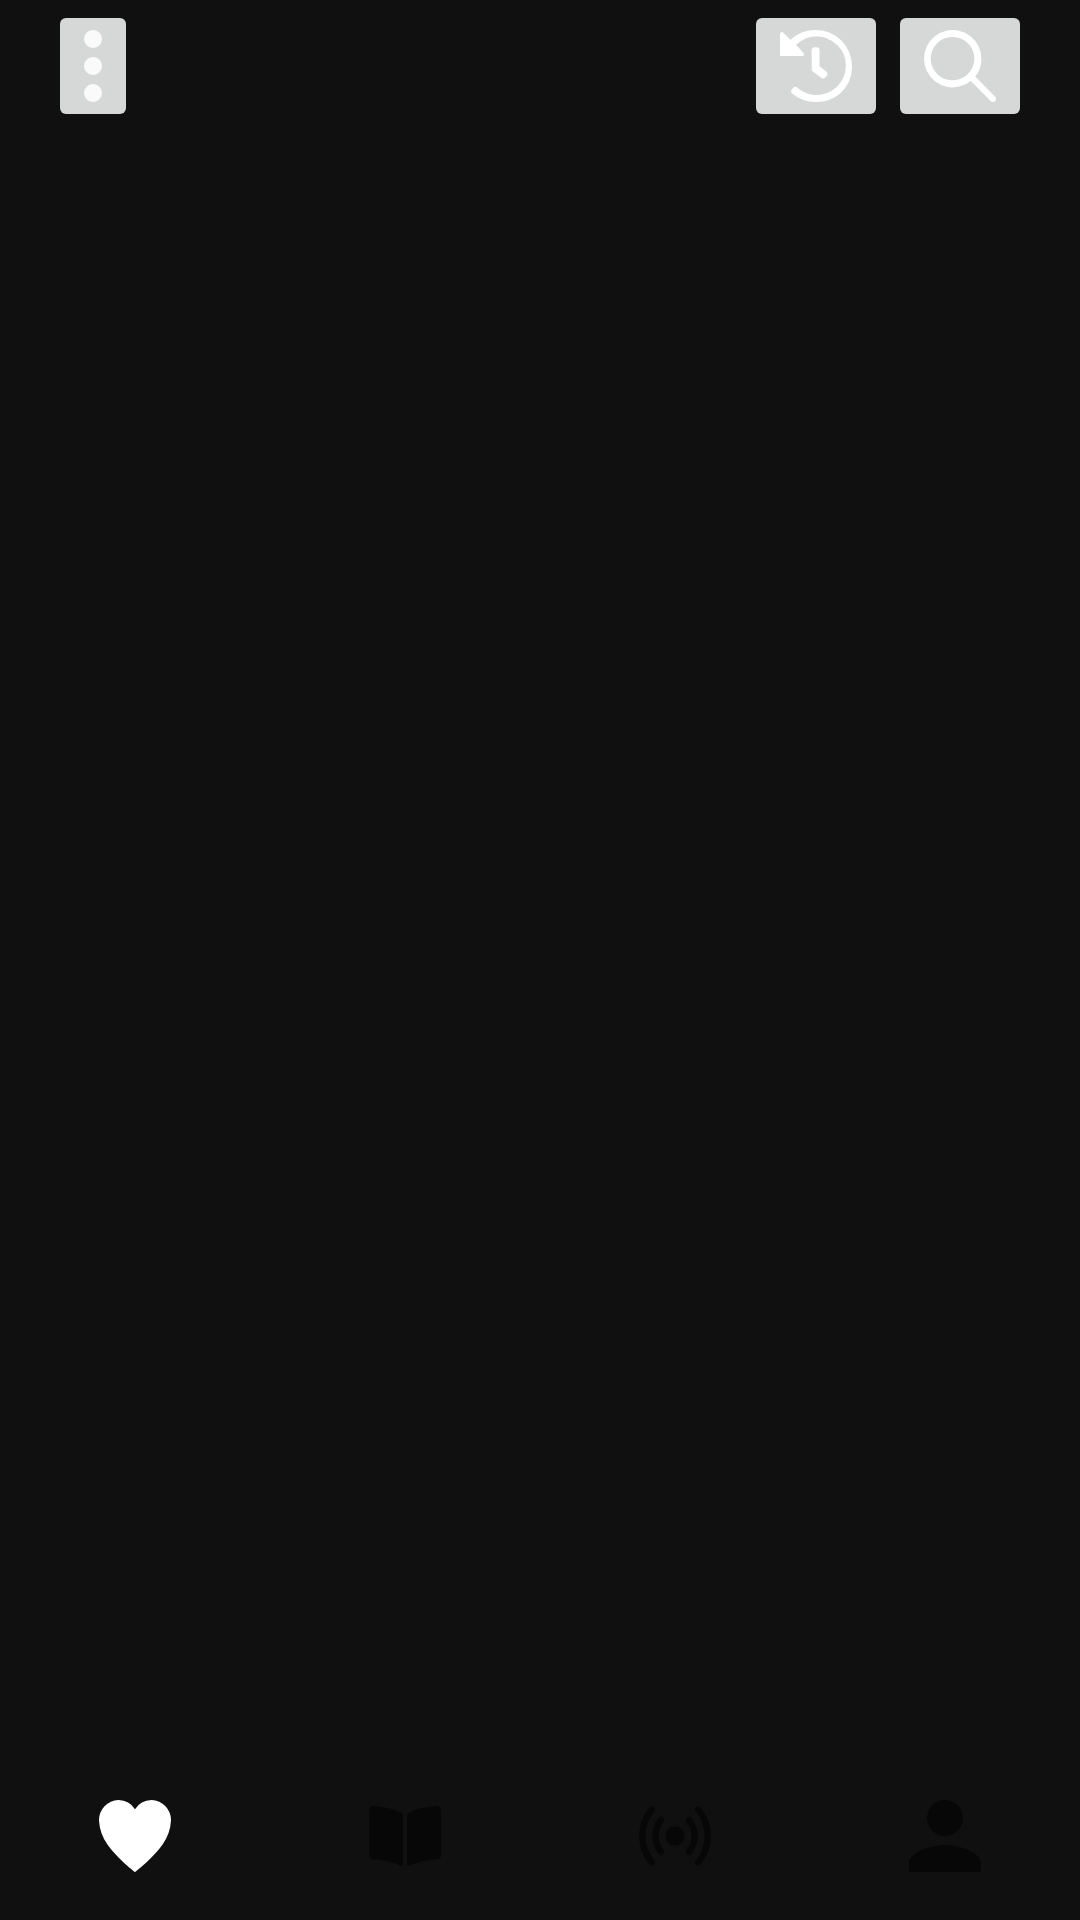

Screen size 1080 x 1920. Icon name, then its center in pixels as (x=x, y=y):
awesome history: (x=816, y=66)
ionic search: (x=960, y=66)
more vertical: (x=93, y=66)
